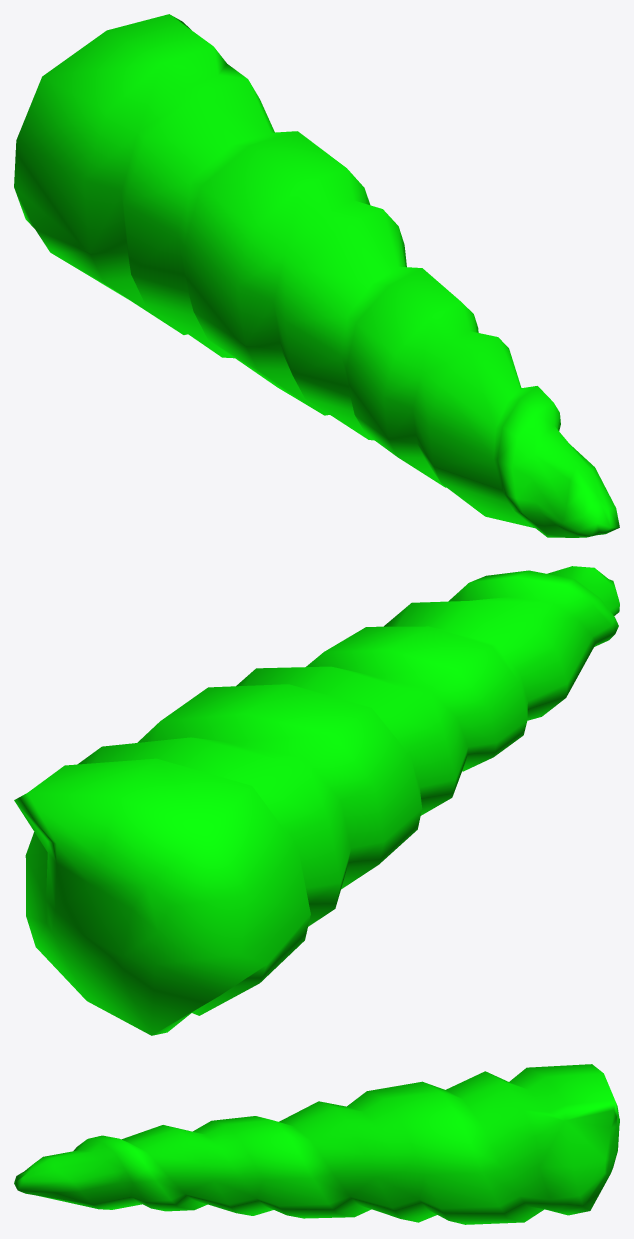
The model's file is Shell_8.fbx.
3 renders of one model, top to bottom at view 1: azimuth 30°, elevation 25°; view 2: azimuth 150°, elevation 25°; view 3: azimuth 270°, elevation 25°, orthographic. The views are drawn at different scales.
Visible parts, largest first — view 1: Shell_8; view 2: Shell_8; view 3: Shell_8.
Part boxes in pixels (box(x1,y1,x2,y2)): Shell_8: box(14, 14, 619, 537); Shell_8: box(14, 566, 619, 1035); Shell_8: box(14, 1064, 619, 1224).
Bounding box in the file's own units: 43.9 × 42.36 × 163.
